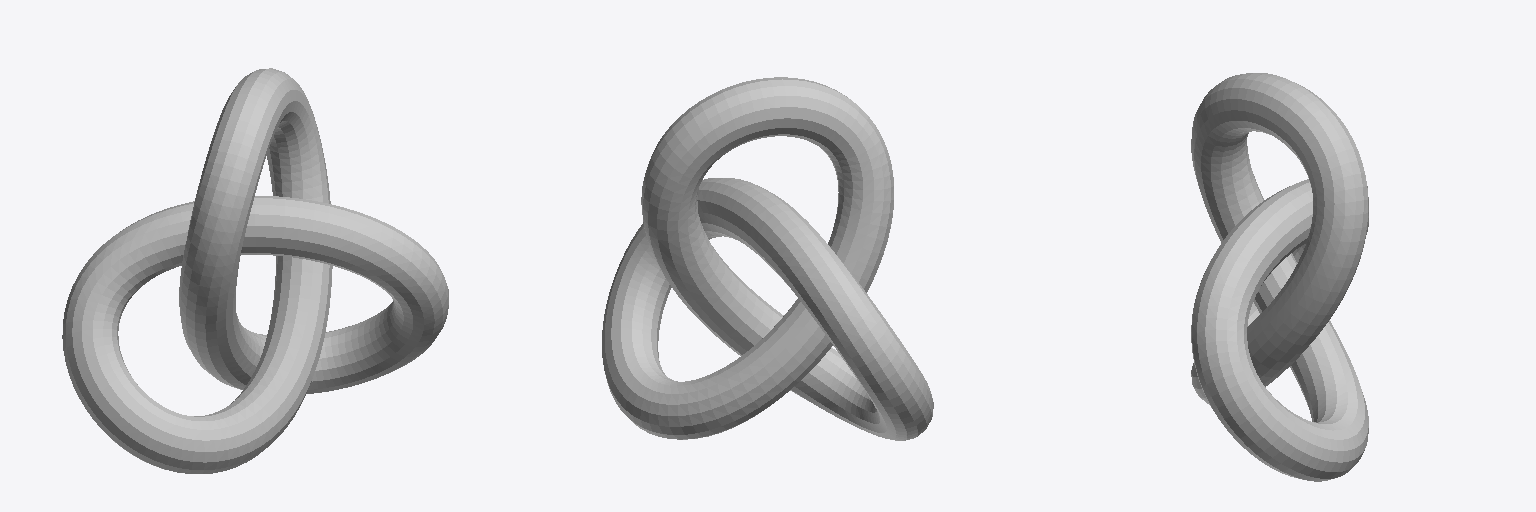
File: TorusKnot.obj
The picture shows the model from 3 angles: view 1: azimuth 30°, elevation 25°; view 2: azimuth 150°, elevation 25°; view 3: azimuth 270°, elevation 25°; orthographic projection.
Parts seen in each view (by area): view 1: Torus_Knot.005; view 2: Torus_Knot.005; view 3: Torus_Knot.005.
Part boxes in pixels (x1,y1,x2,y2): Torus_Knot.005: (62,68,448,473); Torus_Knot.005: (602,77,933,440); Torus_Knot.005: (1191,73,1368,481).
Size of the model in its own units: 191 by 189 by 86.88.